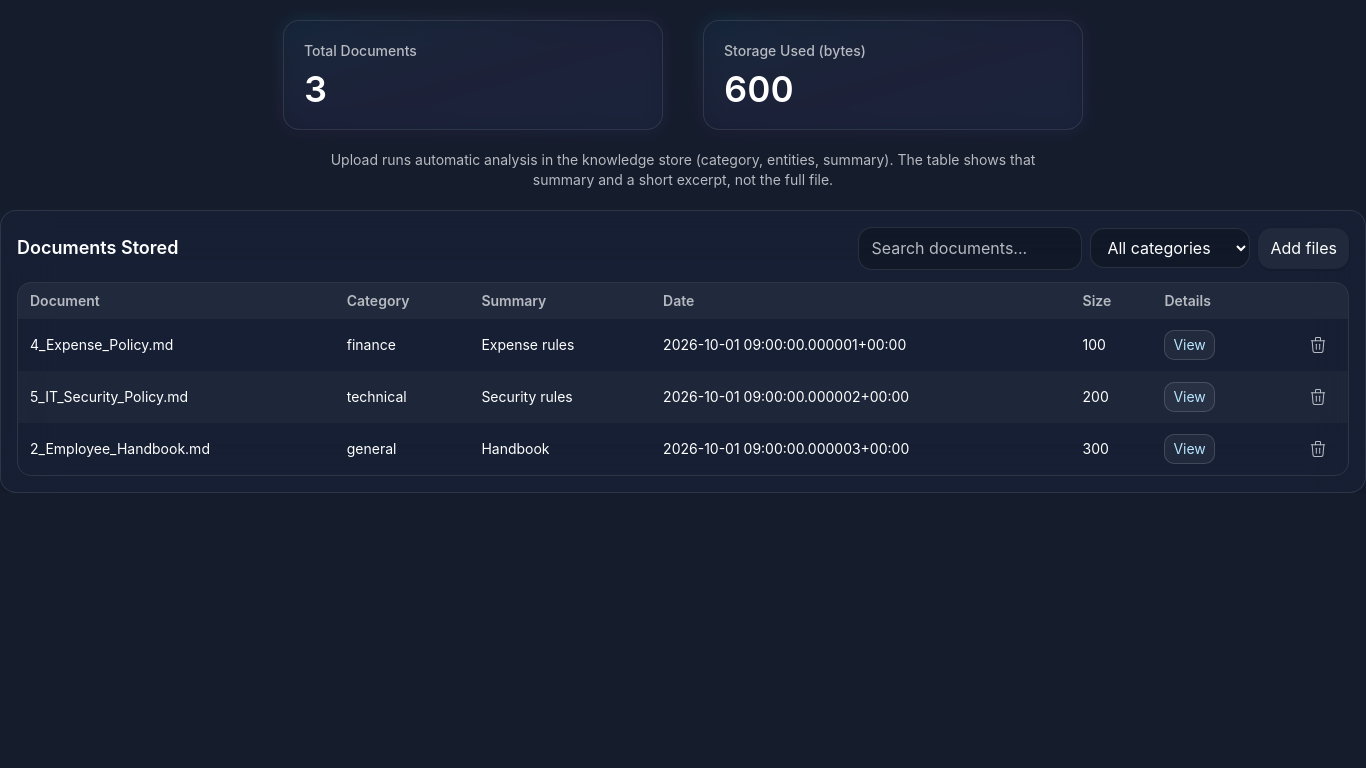
KnowledgeStorePage delete and duplicate upload › does not warn when the queued file name is new
The image size is (1366, 768).
Click the button "Add files" at (1304, 248), box [1258,228,1349,269]
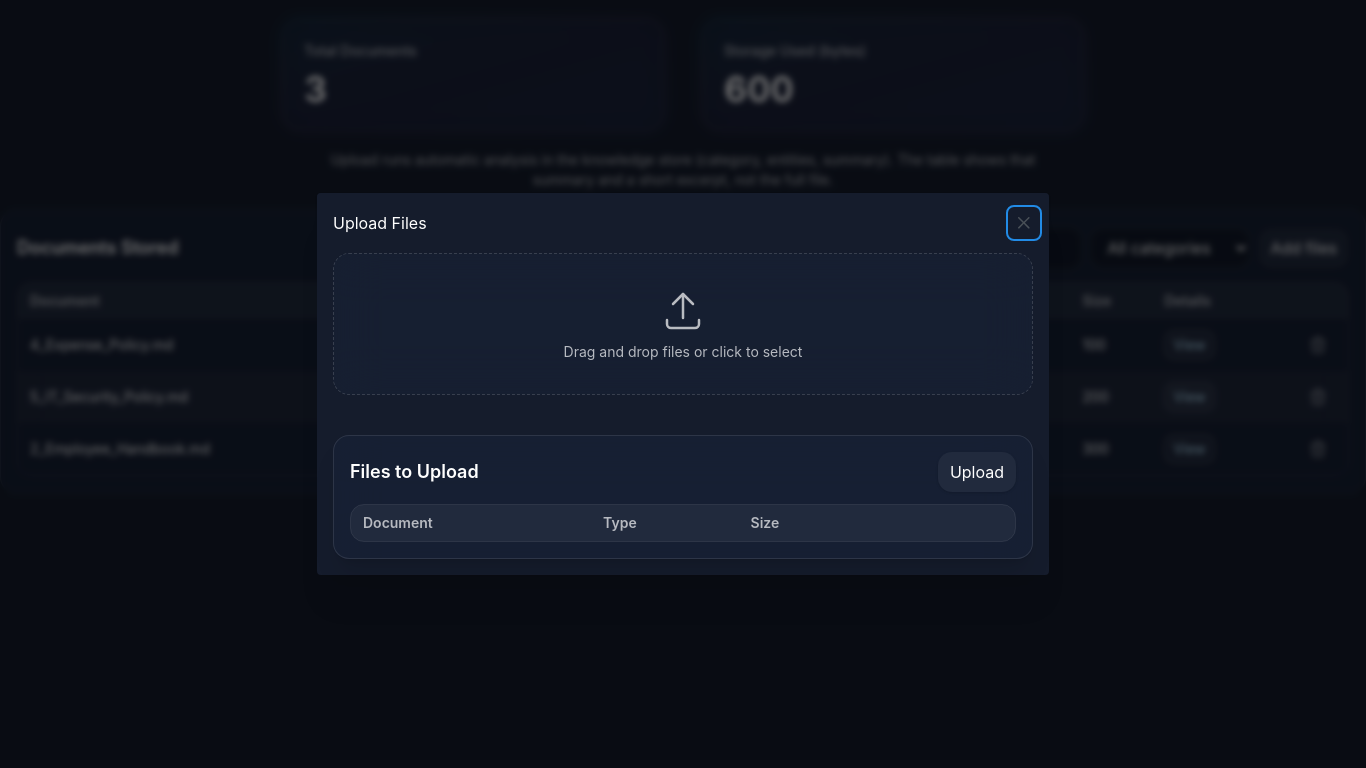
Expected: the heading "Files to Upload" is shown, [350,458,479,486]
